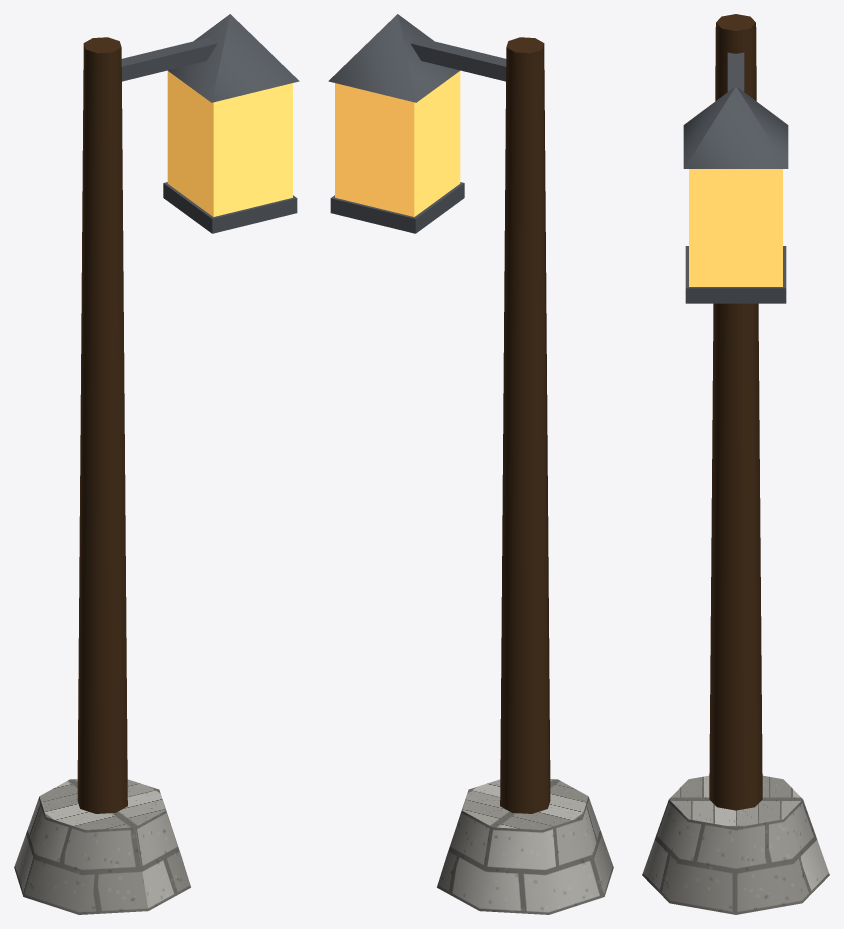
The model's file is lamp.glb.
3 views of the same model, side by side, from view 1: azimuth 30°, elevation 25°; view 2: azimuth 150°, elevation 25°; view 3: azimuth 270°, elevation 25° (orthographic). The views are drawn at different scales.
Parts seen in each view (by area): view 1: lamp; view 2: lamp; view 3: lamp.
Part boxes in pixels (box(x1,y1,x2,y2)): lamp: box(14, 14, 299, 914); lamp: box(328, 14, 613, 914); lamp: box(642, 14, 829, 914).
Size of the model in its own units: 0.8856 by 2.8 by 0.56.
4 materials, 1 textured.
